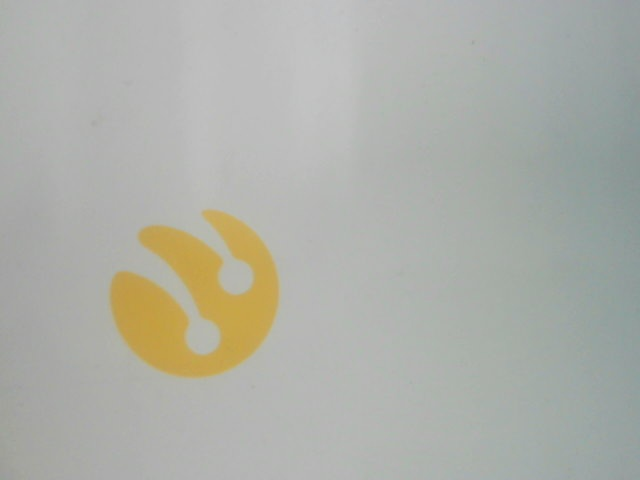AV_H3600Yellow: (96, 199, 297, 382)
